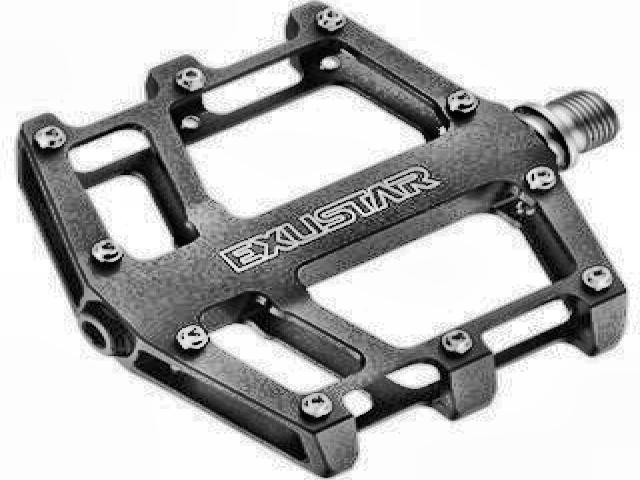pedal: (18, 0, 631, 476)
